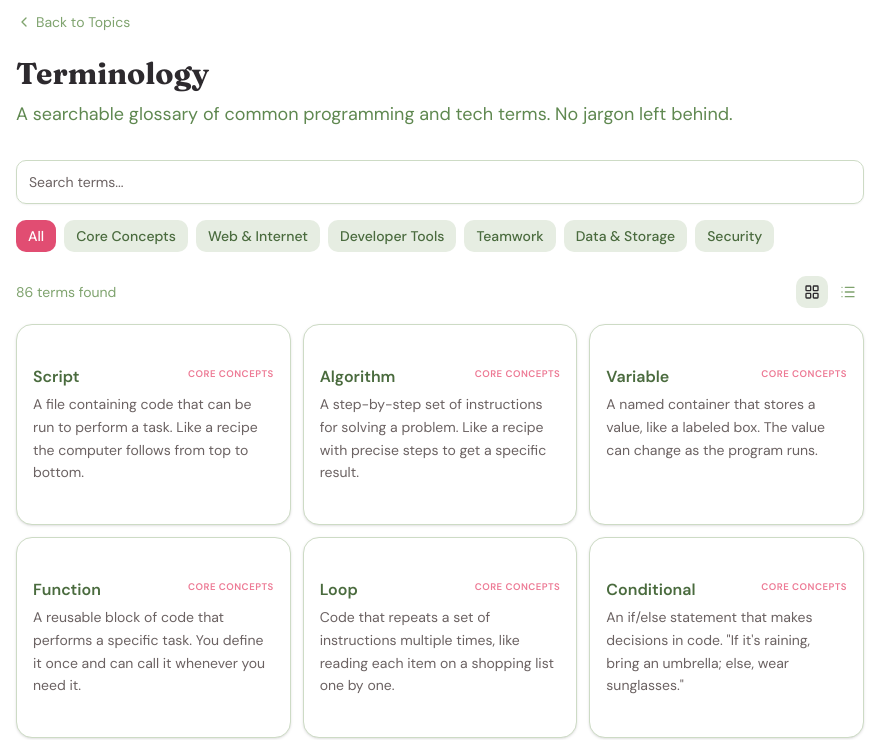
Test case: TerminologyPage › filters terms by category
The width and height of the screenshot is (881, 740).
Click the button "Security". click: (735, 236)
box: [695,220,774,252]
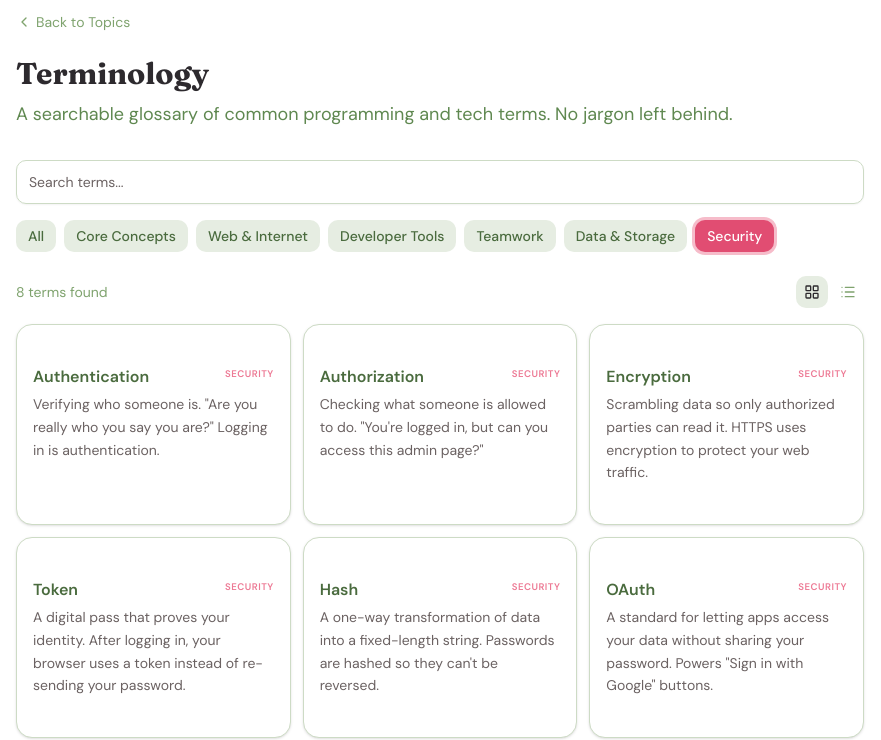
expect the text "Authentication" is shown: met, box [33,365,149,389]
expect the text "Script" is gone: met
